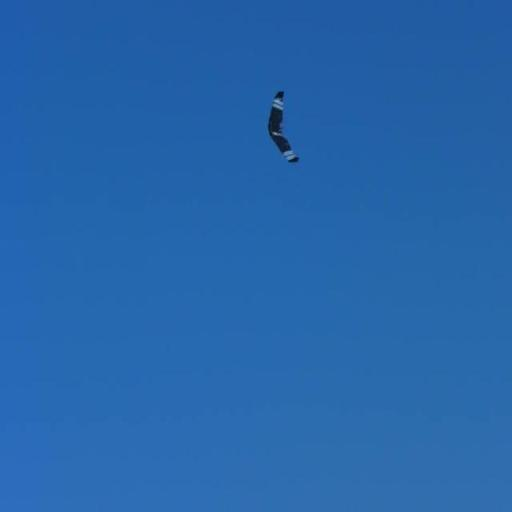uav: (266, 90, 302, 172)
